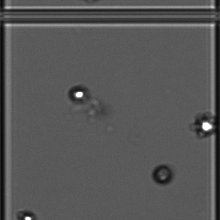Dead Cell: (151, 159, 182, 194)
Living Cell: (187, 111, 214, 141), (68, 82, 90, 104)
